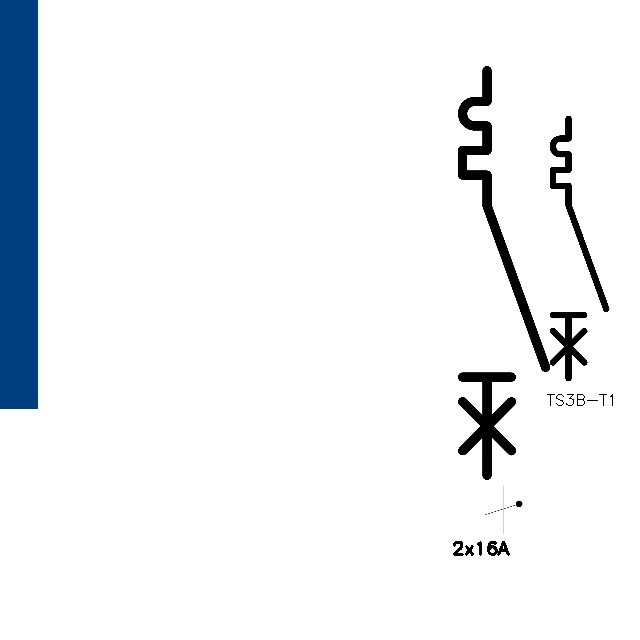interruptor_termomagnetico: (452, 60, 556, 486), (546, 112, 612, 385)
